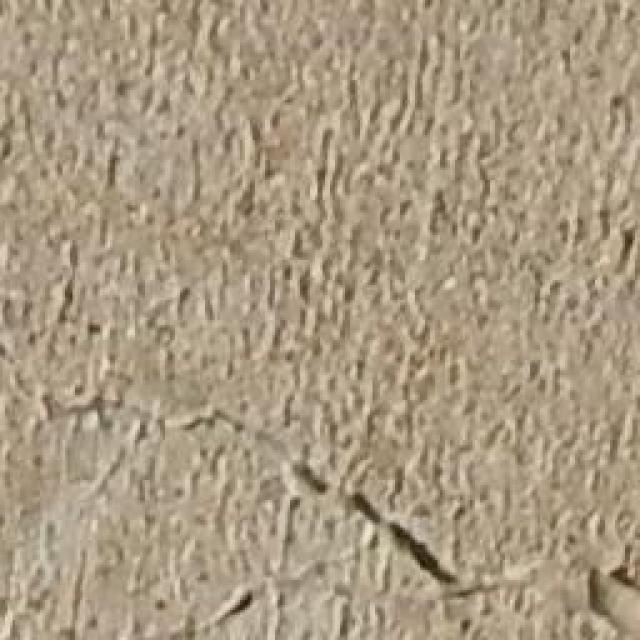concrete-crack: (34, 388, 459, 587)
